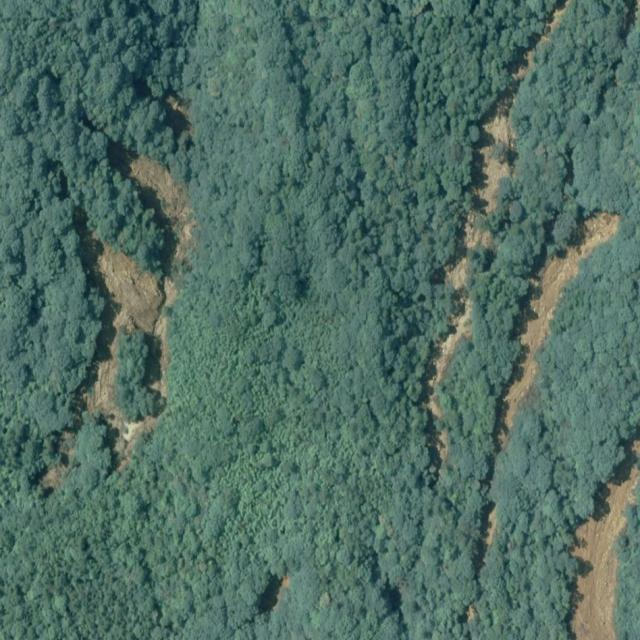landslide: (500, 211, 620, 450), (572, 468, 640, 640)
